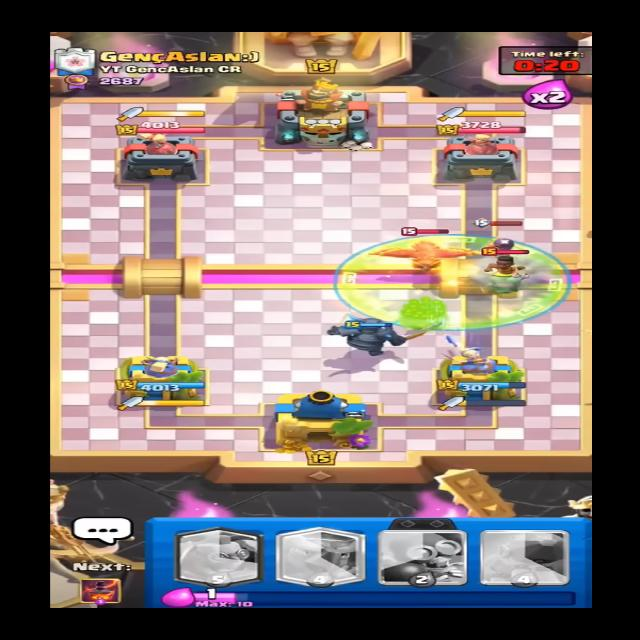Evowizard: (473, 218, 531, 260)
Pheonix: (366, 225, 473, 272)
Ramrider: (486, 244, 536, 291)
